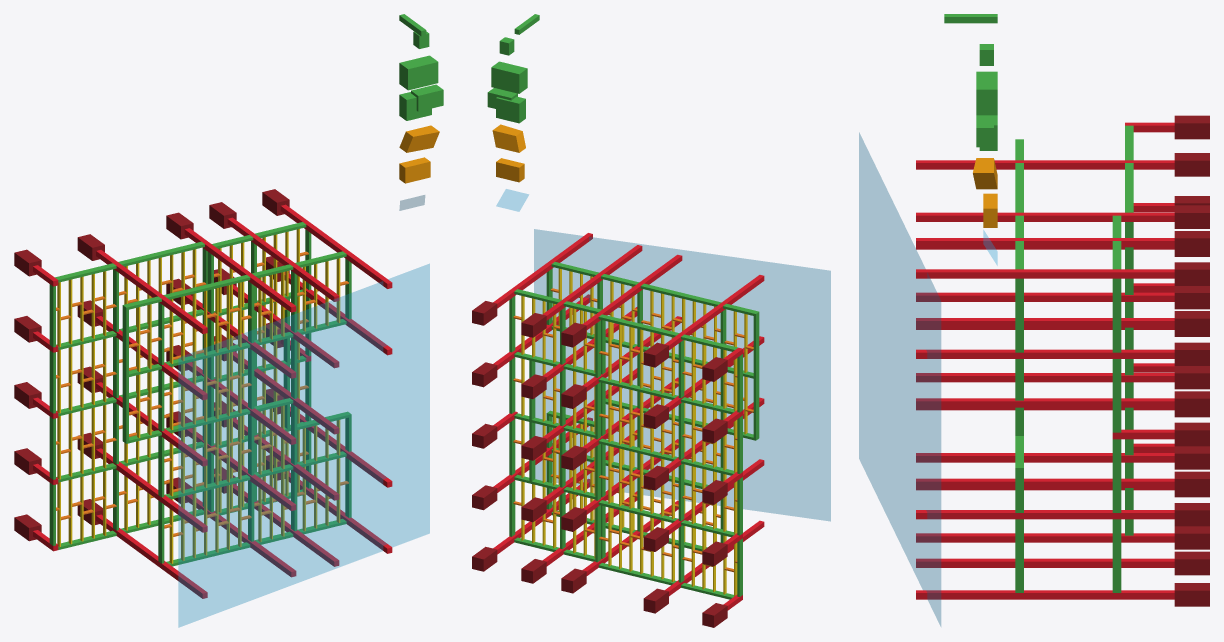
File: tinker.obj
3 renders of one model, left to right at view 1: azimuth 30°, elevation 25°; view 2: azimuth 150°, elevation 25°; view 3: azimuth 270°, elevation 25°, orthographic. The views are drawn at different scales.
Parts seen in each view (by area): view 1: obj_424, obj_420, obj_4, obj_2, obj_3, obj_1, obj_421, obj_20, obj_15, obj_13, obj_11, obj_6 (+12 smaller); view 2: obj_424, obj_420, obj_421, obj_3, obj_2, obj_4, obj_1, obj_419, obj_13, obj_9, obj_21, obj_7 (+12 smaller); view 3: obj_424, obj_4, obj_18, obj_23, obj_9, obj_13, obj_3, obj_8, obj_17, obj_22, obj_16, obj_21 (+42 smaller).
Boxes of the visible parts, x1,y1,x2,y2 form: obj_424: [178, 263, 429, 627]; obj_420: [399, 84, 443, 120]; obj_4: [280, 204, 392, 288]; obj_2: [184, 228, 296, 312]; obj_3: [227, 217, 339, 301]; obj_1: [96, 250, 207, 333]; obj_421: [399, 55, 438, 90]; obj_20: [96, 514, 207, 598]; obj_15: [96, 448, 207, 532]; obj_13: [233, 351, 339, 434]; obj_11: [96, 382, 207, 466]; obj_6: [96, 316, 207, 400]; obj_424: [534, 229, 830, 521]; obj_420: [487, 88, 525, 123]; obj_421: [491, 61, 527, 93]; obj_3: [542, 245, 642, 320]; obj_2: [582, 254, 682, 329]; obj_4: [493, 233, 592, 308]; obj_1: [665, 275, 764, 350]; obj_419: [492, 124, 525, 152]; obj_13: [542, 368, 637, 443]; obj_9: [493, 294, 590, 369]; obj_21: [582, 500, 678, 575]; obj_7: [582, 316, 681, 391]; obj_424: [859, 132, 940, 626]; obj_4: [916, 269, 1174, 278]; obj_18: [916, 510, 1174, 519]; obj_23: [916, 590, 1174, 599]; obj_9: [916, 349, 1174, 358]; obj_13: [916, 398, 1174, 407]; obj_3: [916, 238, 1174, 247]; obj_8: [916, 318, 1174, 327]; obj_17: [916, 478, 1174, 487]; obj_22: [916, 558, 1174, 567]; obj_16: [916, 453, 1174, 462]; obj_21: [916, 533, 1174, 542].
Bounding box in the file's own units: 132 × 192 × 99.11.
